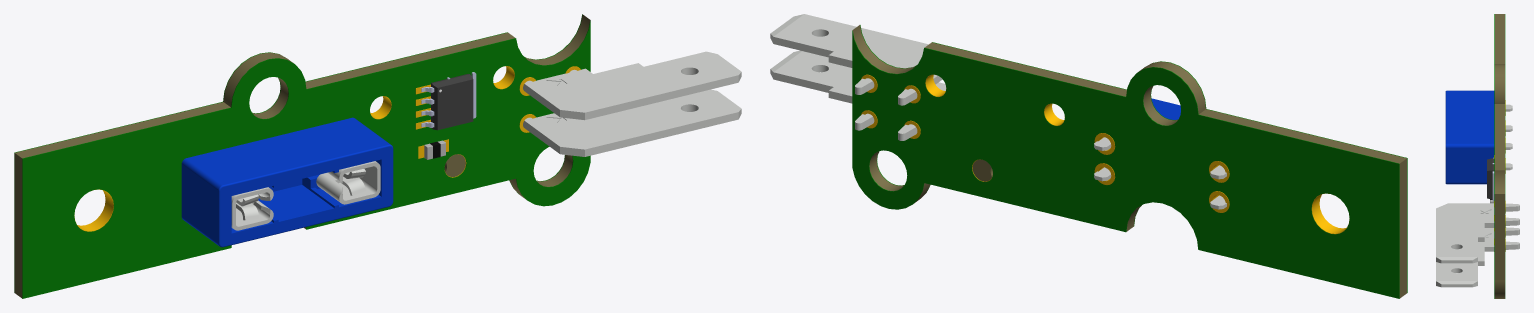
The model's file is SwitchableModule.obj.
3 views of the same model, side by side, from view 1: azimuth 30°, elevation 25°; view 2: azimuth 150°, elevation 25°; view 3: azimuth 270°, elevation 25° (orthographic). The views are drawn at different scales.
Visible parts, largest first — view 1: Body1:2, Body1:6, Body1:4, Board, Body1:5, Body6, Body2:2, Body3:2, CopperHoles, Body1:3; view 2: Body1:3, Board, Body1:4, Body1:5, Body2:1, CopperHoles, Body1:2, Body1:6; view 3: Body1:6, Body1:4, Board, Body1:5, Body1:2, Body1:3, Body6, Body2:1, Body2:2, Body3:2, Body5.
Boxes of the visible parts, x1=… form: Body1:2: x1=22, y1=20, x2=590, y2=298; Body1:6: x1=181, y1=117, x2=393, y2=247; Body1:4: x1=523, y1=51, x2=741, y2=120; Board: x1=14, y1=14, x2=590, y2=298; Body1:5: x1=523, y1=89, x2=741, y2=156; Body6: x1=431, y1=74, x2=473, y2=130; Body2:2: x1=316, y1=161, x2=380, y2=204; Body3:2: x1=231, y1=187, x2=273, y2=230; CopperHoles: x1=77, y1=66, x2=514, y2=231; Body1:3: x1=14, y1=14, x2=582, y2=292; Body1:3: x1=852, y1=30, x2=1399, y2=298; Board: x1=852, y1=25, x2=1406, y2=298; Body1:4: x1=770, y1=14, x2=942, y2=105; Body1:5: x1=770, y1=50, x2=946, y2=140; Body2:1: x1=861, y1=74, x2=1229, y2=212; CopperHoles: x1=872, y1=74, x2=1346, y2=233; Body1:2: x1=860, y1=25, x2=1407, y2=292; Body1:6: x1=1151, y1=98, x2=1180, y2=119; Body1:6: x1=1445, y1=90, x2=1494, y2=184; Body1:4: x1=1436, y1=203, x2=1519, y2=263; Board: x1=1495, y1=14, x2=1504, y2=298; Body1:5: x1=1436, y1=227, x2=1519, y2=287; Body1:2: x1=1494, y1=14, x2=1494, y2=298; Body1:3: x1=1505, y1=14, x2=1505, y2=298; Body6: x1=1487, y1=158, x2=1494, y2=199; Body2:1: x1=1505, y1=100, x2=1505, y2=251; Body2:2: x1=1505, y1=143, x2=1512, y2=170; Body3:2: x1=1505, y1=104, x2=1512, y2=131; Body5: x1=1492, y1=163, x2=1494, y2=201.
Size of the model in its own units: 7.69 by 2.33 by 1.27.
